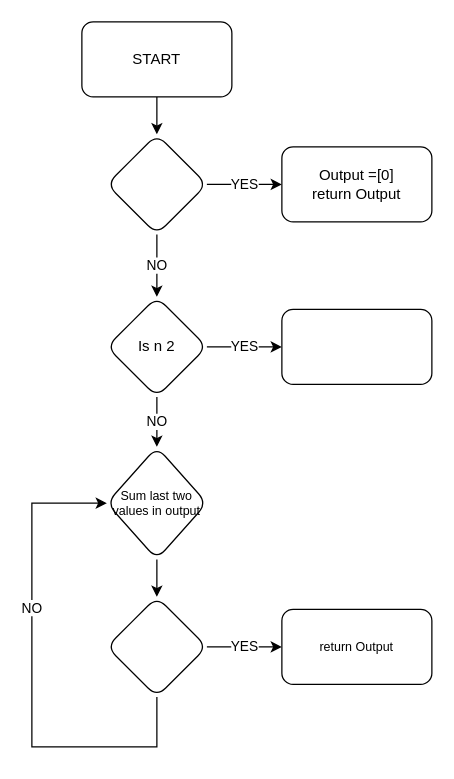
This 454x779 diagram has some shape labels left out. The box of each missing label's shape, as (x1, y1, x2, y2) in pixels:
Dose n equal number of items in output: (106, 596, 207, 697)
Is n 1: (106, 133, 207, 234)
Output =[0,1] return Output: (281, 308, 432, 384)
